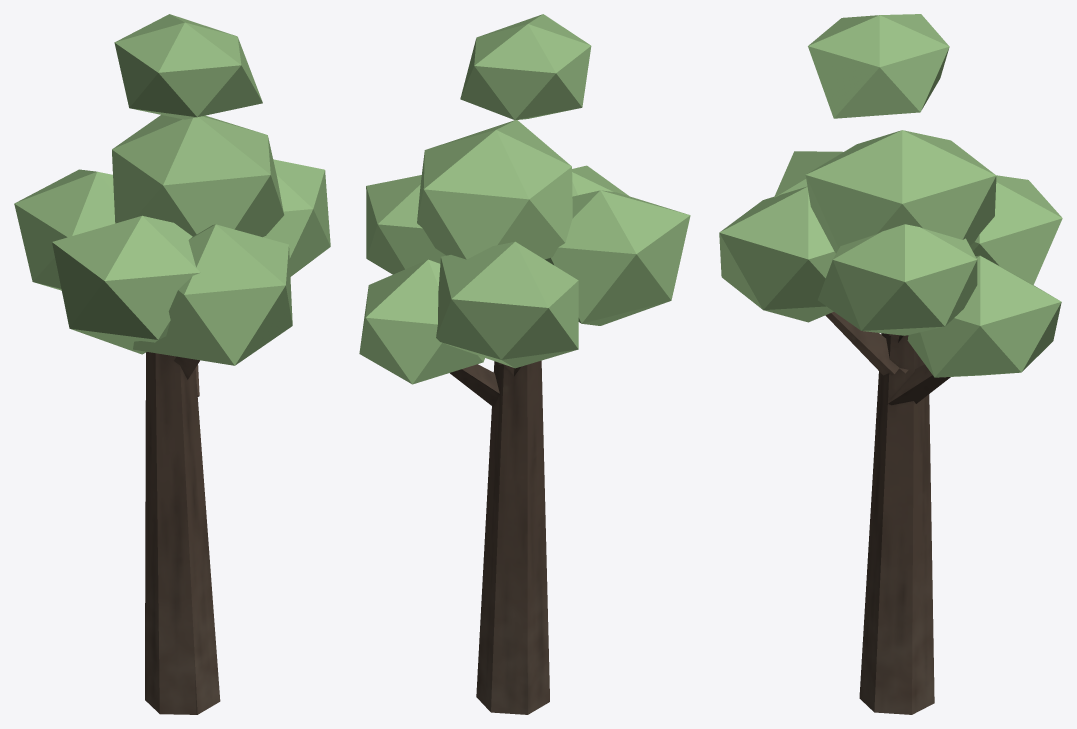
File: arv_carvalho_4.glb
3 renders of one model, left to right at view 1: azimuth 30°, elevation 25°; view 2: azimuth 150°, elevation 25°; view 3: azimuth 270°, elevation 25°, orthographic. The views are drawn at different scales.
Parts seen in each view (by area): view 1: arv_carvalho_4; view 2: arv_carvalho_4; view 3: arv_carvalho_4.
Boxes of the visible parts, box(x1,y1,x2,y2) form: arv_carvalho_4: box(14, 14, 330, 714); arv_carvalho_4: box(359, 14, 690, 714); arv_carvalho_4: box(719, 14, 1062, 714).
Bounding box in the file's own units: 0.8623 × 1.99 × 0.9078.
2 materials, 1 textured.
